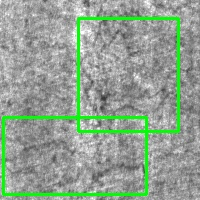crazing: (78, 19, 178, 131), (3, 117, 146, 194)
